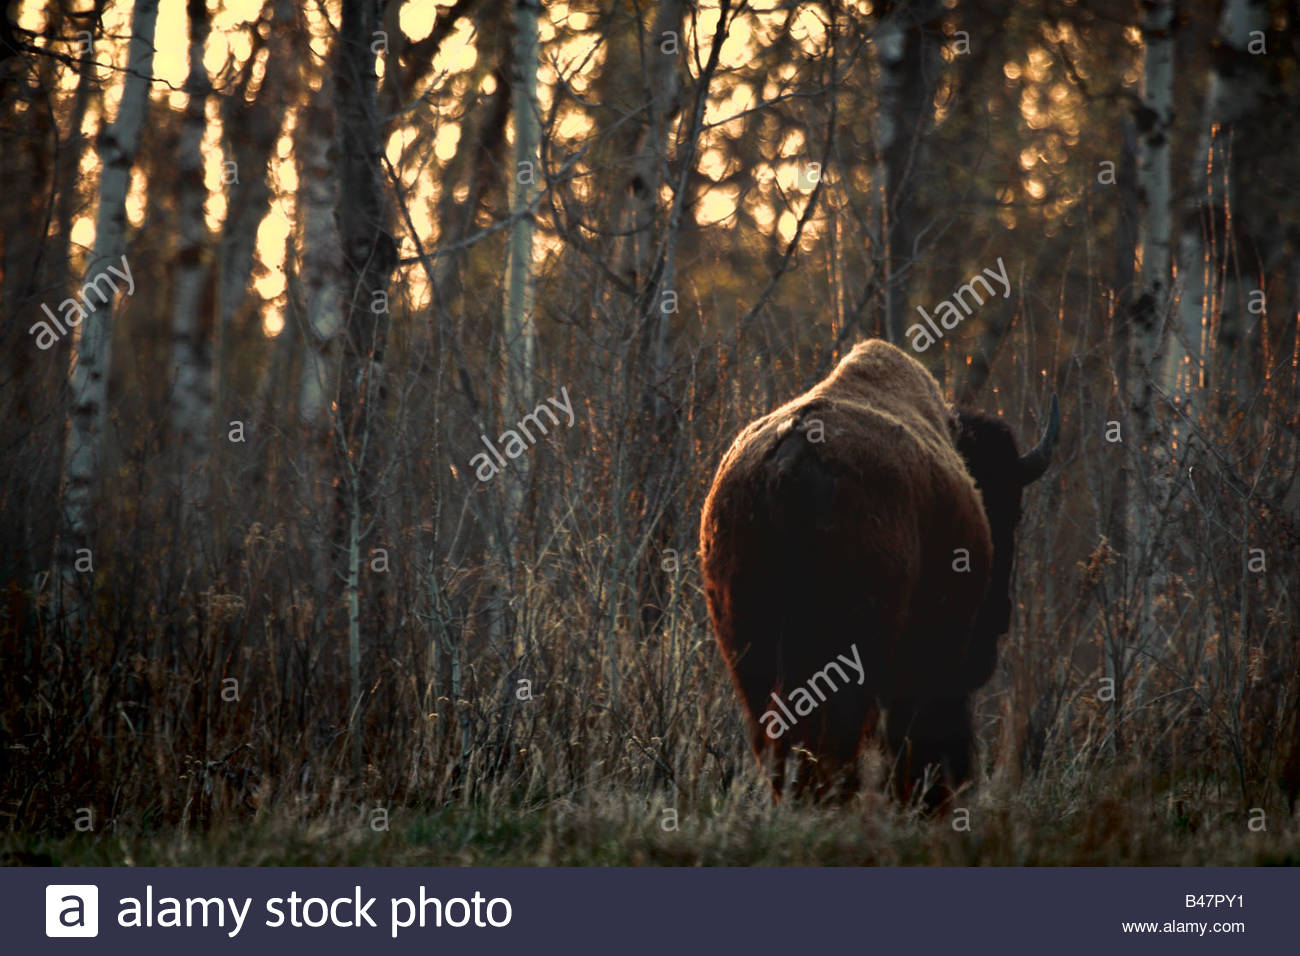yak: (694, 340, 1072, 812)
